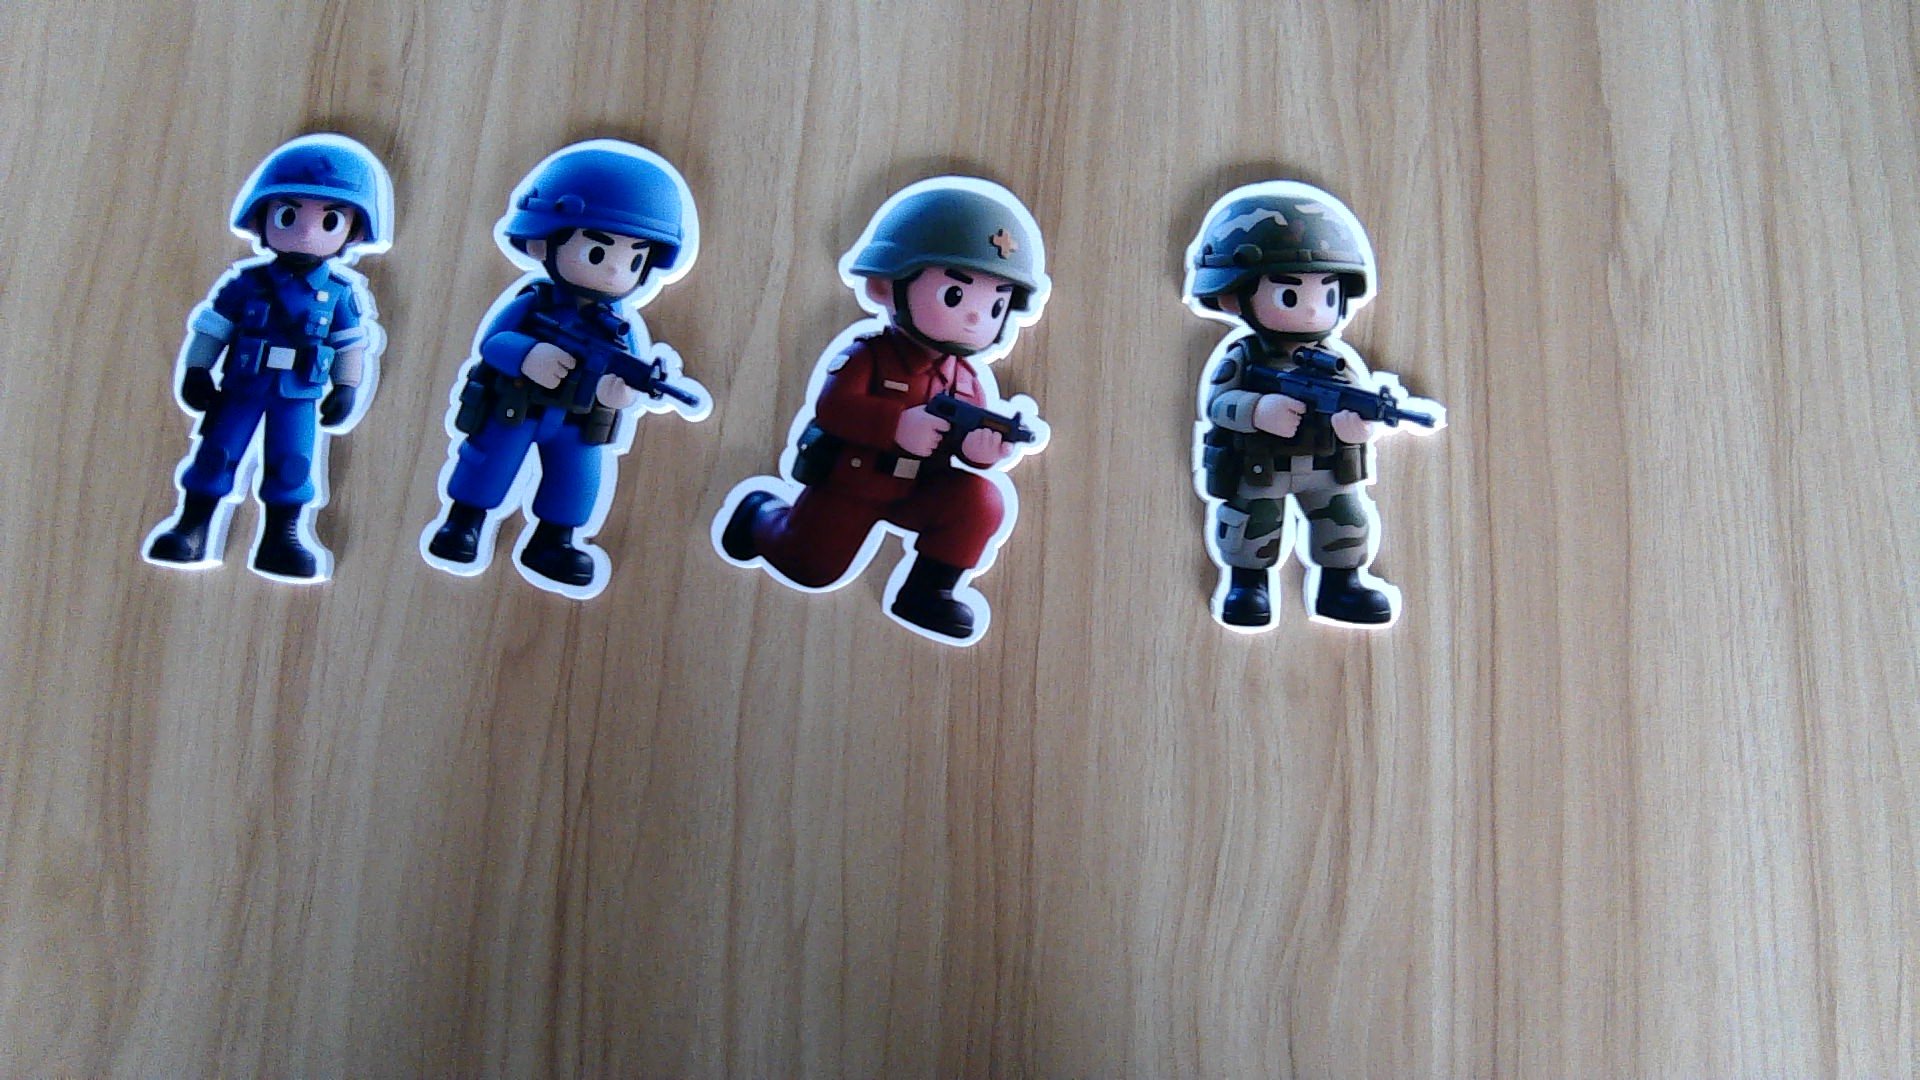友军: (1187, 345, 1455, 636)
敌人1: (713, 342, 1046, 654)
敌人2: (419, 291, 688, 603), (137, 264, 382, 597)
